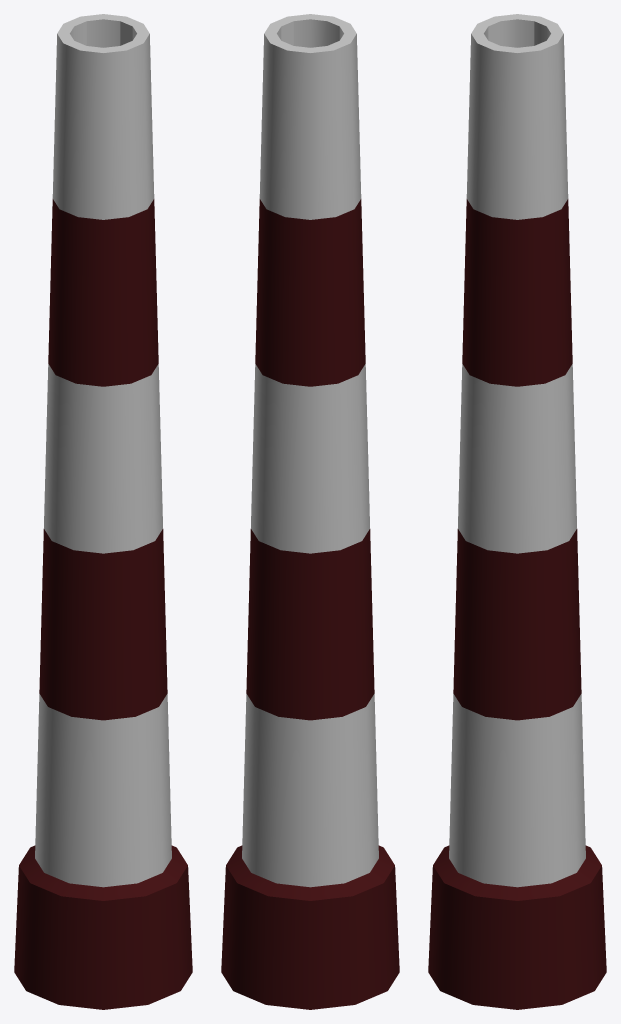
File: Tower_01.FBX
3 renders of one model, left to right at view 1: azimuth 30°, elevation 25°; view 2: azimuth 150°, elevation 25°; view 3: azimuth 270°, elevation 25°, orthographic.
Parts seen in each view (by area): view 1: Tower_01; view 2: Tower_01; view 3: Tower_01.
Boxes of the visible parts, x1,y1,x2,y2 form: Tower_01: (14,14,192,1009); Tower_01: (221,14,399,1009); Tower_01: (428,14,606,1009).
Size of the model in its own units: 5.73 by 33.23 by 5.73.
